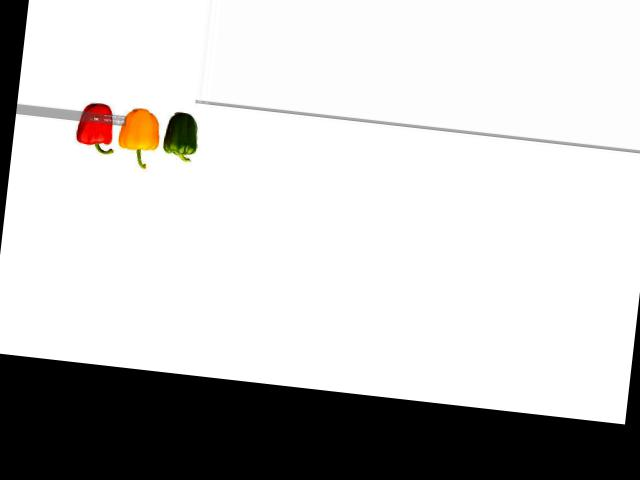bell_pepper: (162, 108, 205, 169)
